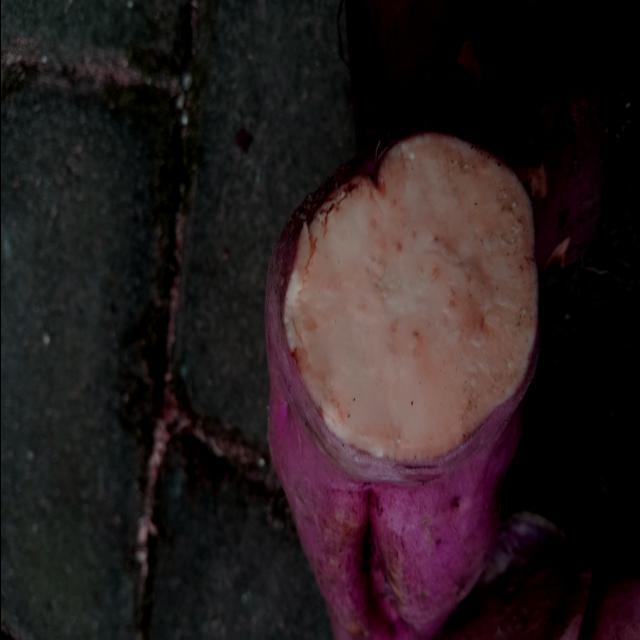Healthy Sweet Potato: (284, 133, 538, 462)
